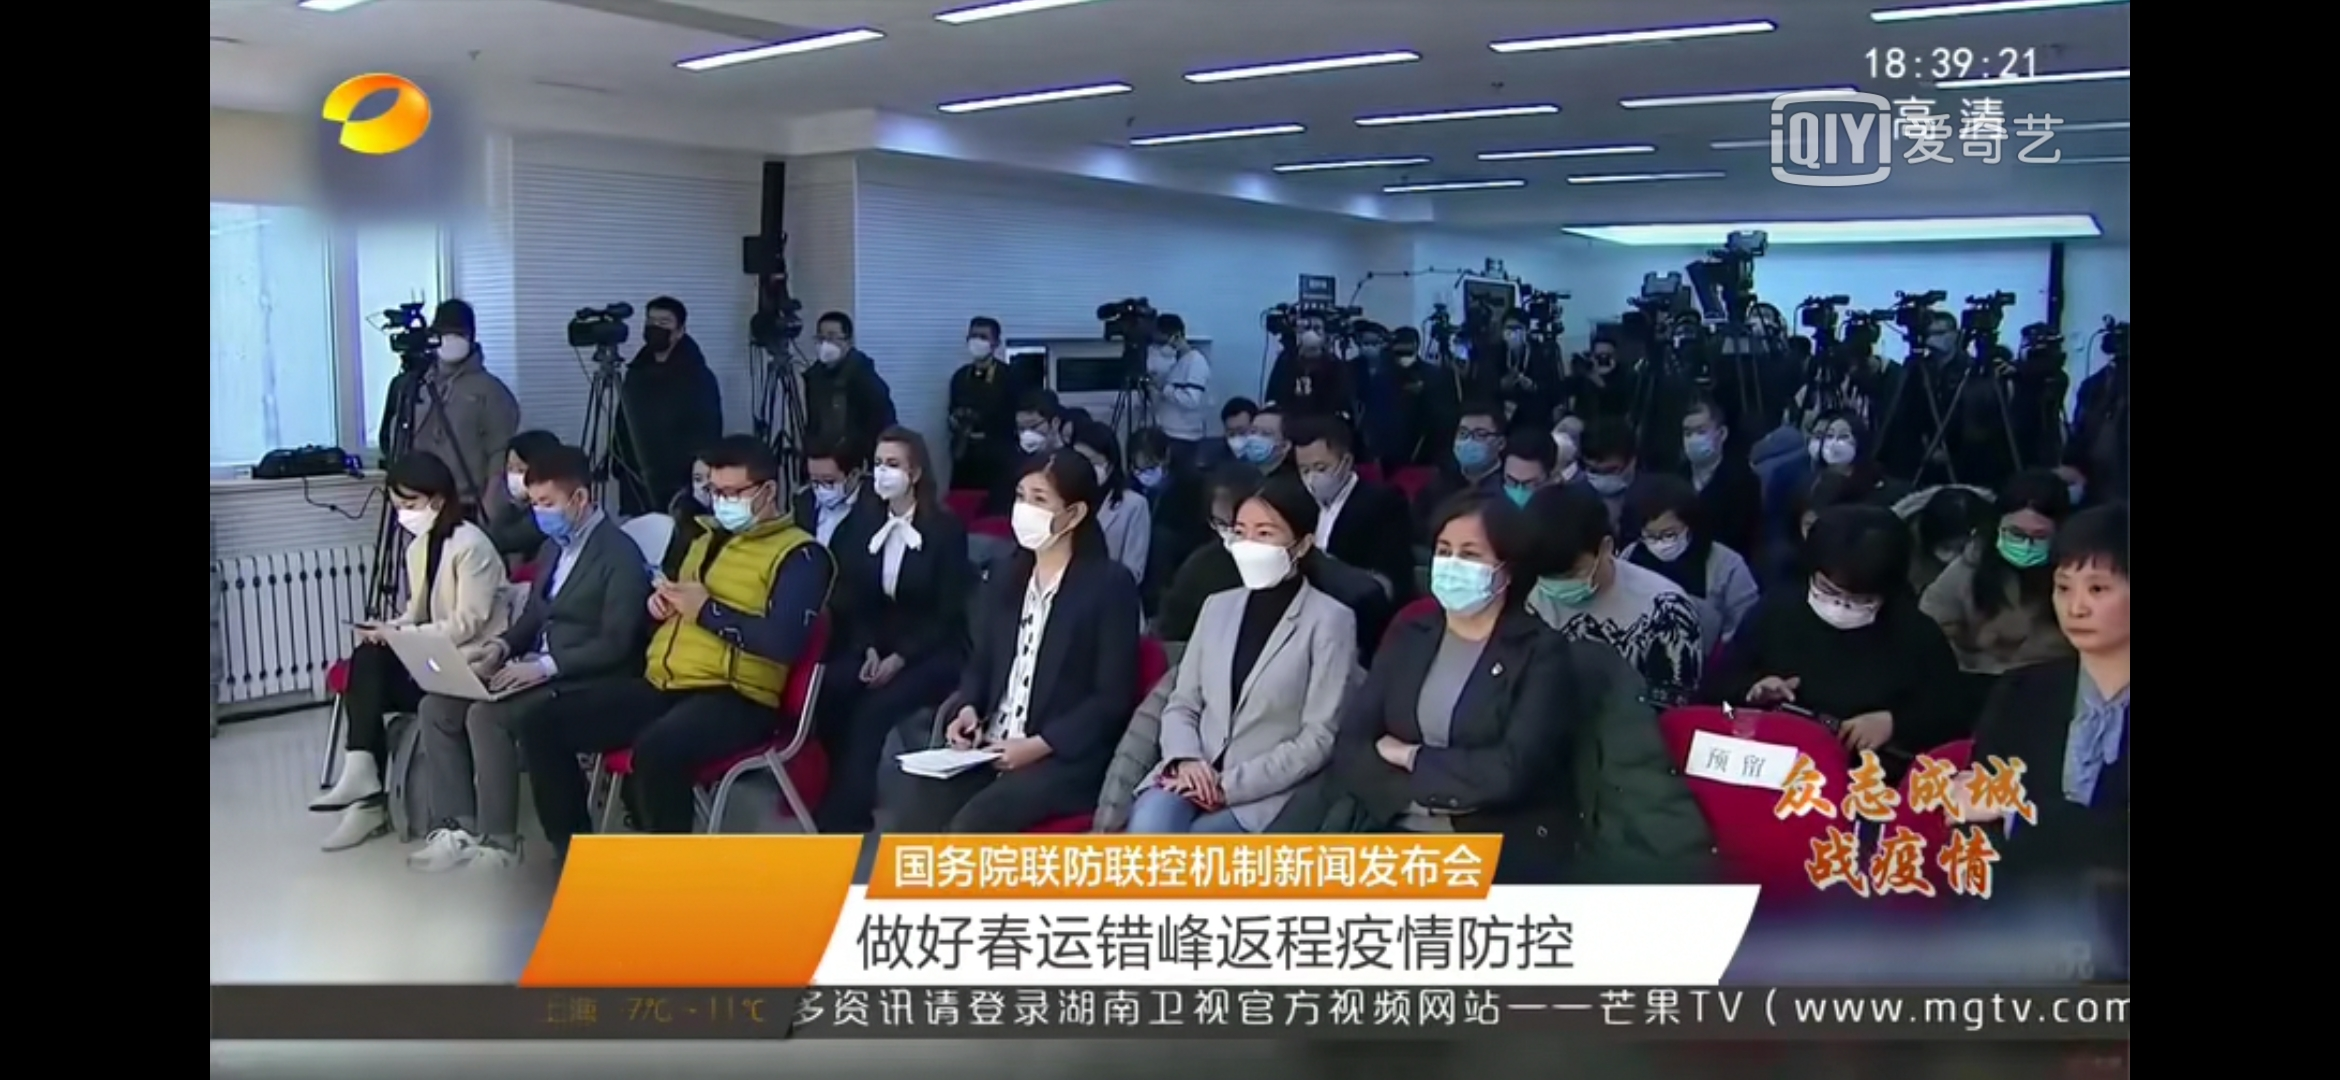correctlyWear: (1621, 479, 1721, 568), (1809, 546, 1910, 632), (1531, 521, 1616, 604), (1431, 530, 1510, 619), (1222, 513, 1304, 592), (1004, 477, 1089, 550), (1994, 500, 2062, 571), (1445, 403, 1506, 477), (706, 474, 780, 534), (530, 471, 591, 539), (1300, 440, 1354, 509), (1498, 455, 1564, 507), (388, 480, 448, 536), (1589, 442, 1642, 503), (869, 446, 922, 500), (1013, 409, 1064, 456), (428, 313, 475, 365), (1127, 442, 1177, 486), (501, 450, 545, 500), (1680, 415, 1727, 459), (1816, 421, 1859, 468), (1551, 421, 1592, 470), (810, 458, 851, 509), (809, 325, 852, 368), (640, 307, 681, 354), (1221, 412, 1257, 461), (1251, 415, 1283, 462), (963, 324, 1001, 361), (1148, 321, 1183, 361), (685, 458, 713, 509), (1395, 340, 1421, 370), (1358, 333, 1383, 360)
noWear: (2055, 559, 2130, 656)
